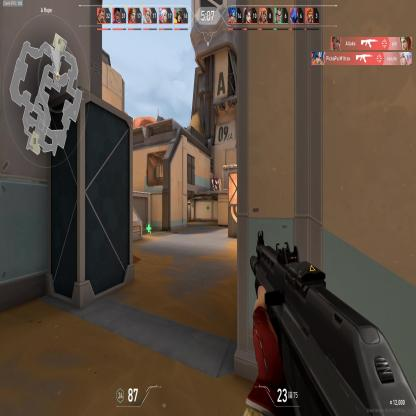enemy: (211, 172, 216, 191)
